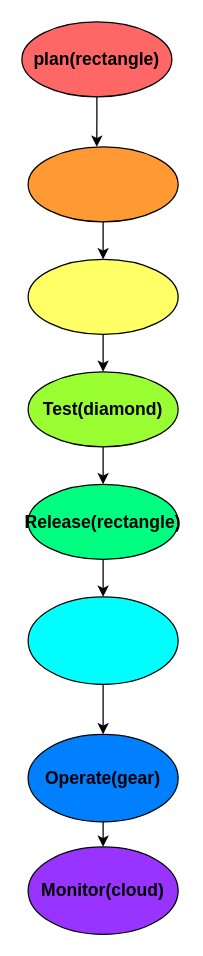
This 203x956 diagram has some shape labels left out. Here are the shapes that lost their labels. From the top down, the centre of each, then its label:
the point at 102,184: Develop(folder)
the point at 102,296: Build(gear)
the point at 102,640: Deploy(cloud)
